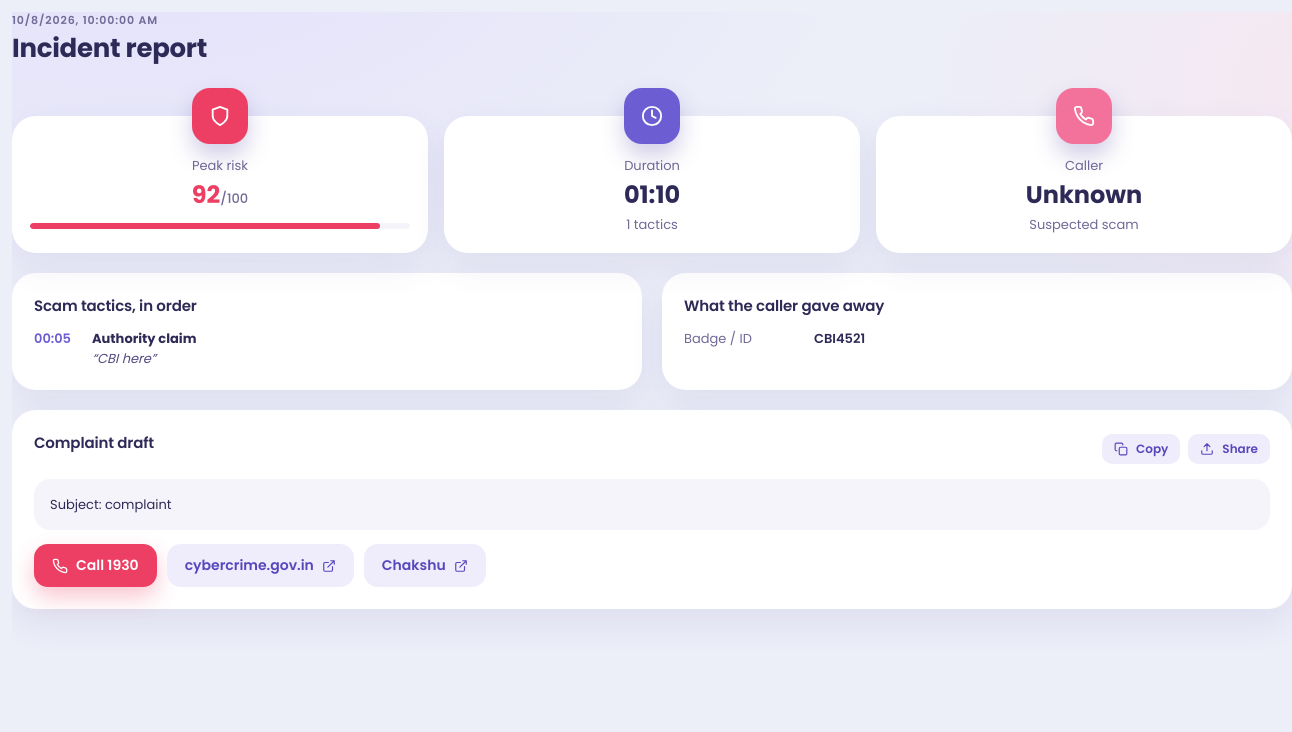
Test: ReportView › asks the user to copy by hand when every copy path fails
Click the button "Copy".
click(1141, 449)  # box [1102, 434, 1180, 464]
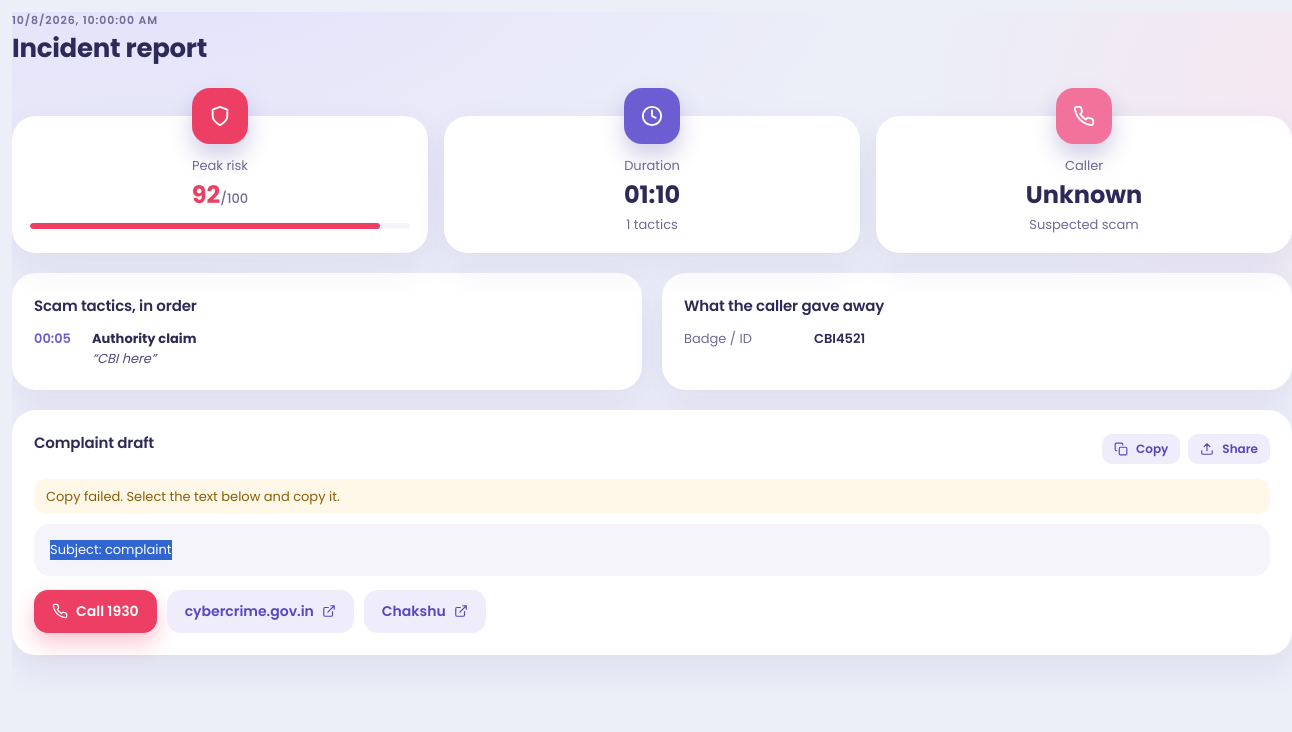
expect the text "Copy failed. Select the text below and copy it." is shown: met, box [34, 478, 1270, 514]
